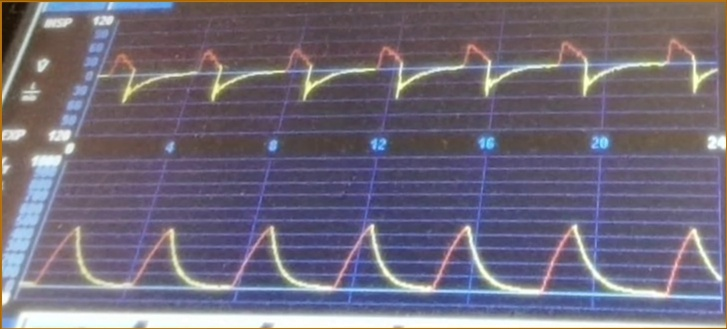Accumulation Flow: (114, 34, 718, 131)
Volume: (45, 218, 719, 308)
